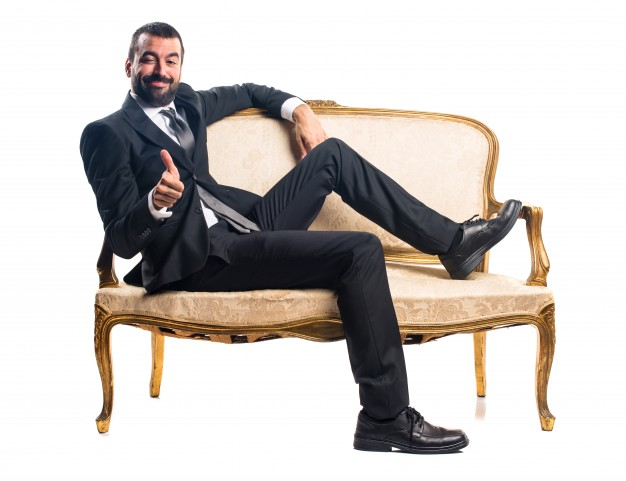thumbsup: (154, 149, 184, 208)
